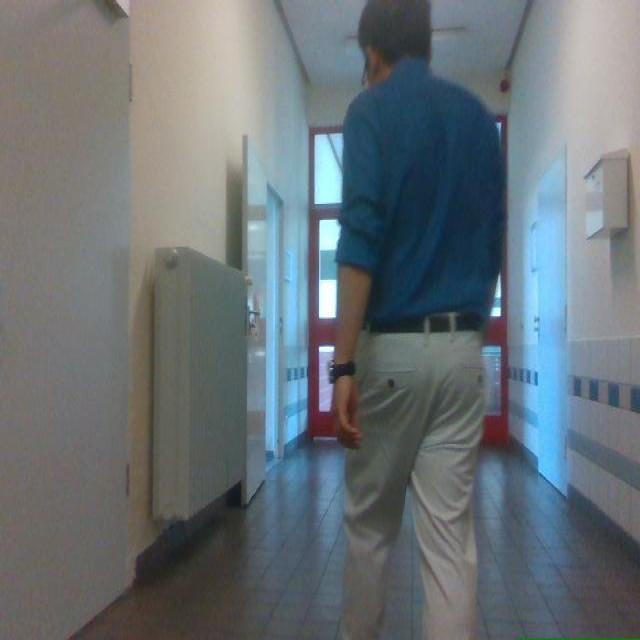humans: (330, 0, 505, 639)
